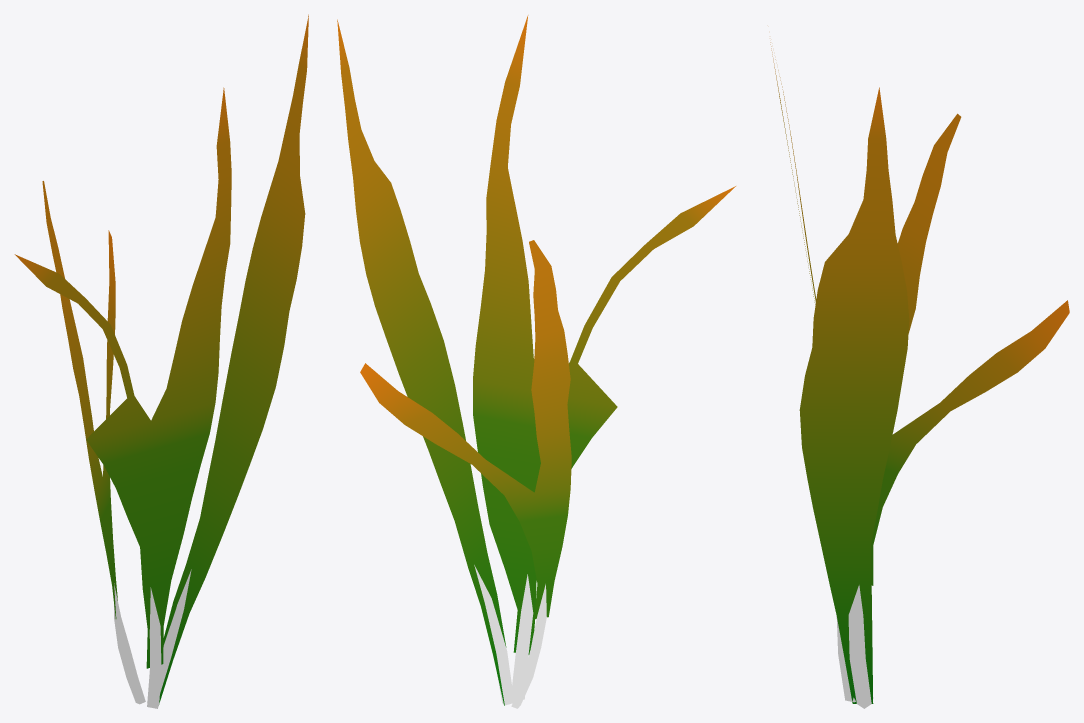
Rendered from sjglk_Var8_LOD0.fbx.
The picture shows the model from 3 angles, left to right: view 1: azimuth 30°, elevation 25°; view 2: azimuth 150°, elevation 25°; view 3: azimuth 270°, elevation 25°; orthographic projection. The views are drawn at different scales.
Parts seen in each view (by area): view 1: _bd5d_Var8_LOD0; view 2: _bd5d_Var8_LOD0; view 3: _bd5d_Var8_LOD0.
Boxes of the visible parts, x1,y1,x2,y2 form: _bd5d_Var8_LOD0: (14, 14, 308, 708); _bd5d_Var8_LOD0: (337, 15, 735, 708); _bd5d_Var8_LOD0: (770, 42, 1069, 708).
Size of the model in its own units: 39.41 by 70.39 by 27.54.
